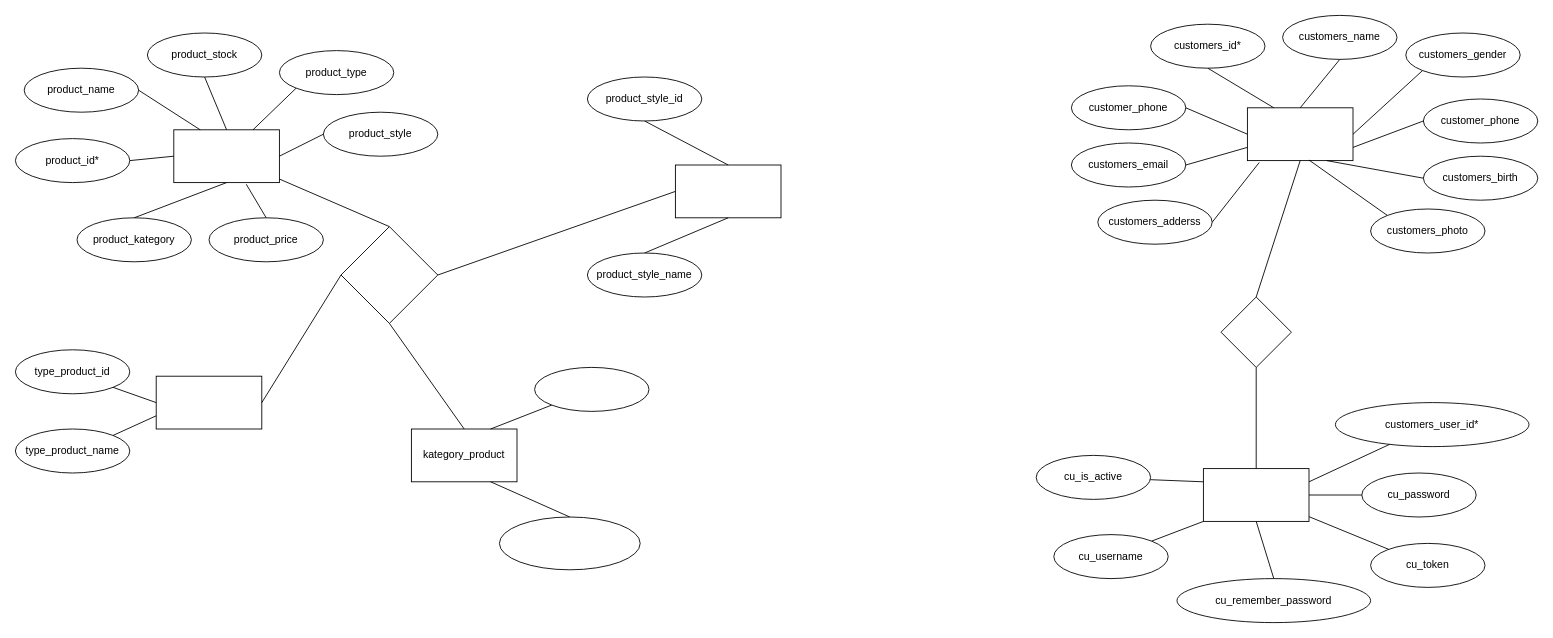
The diagram is 1553 pixels wide and 638 high, and some of its shapes have lost their labels. Here are the shapes that lost their labels. From the top down, the centre of each, then its label:
At point 1300,134: "Customers".
At point 226,156: "Product".
At point 728,191: "style_product".
At point 208,402: "type_product".
At point 591,389: "kategory_product_id".
At point 1256,494: "Customers_User".
At point 569,543: "kategory_product_name".
